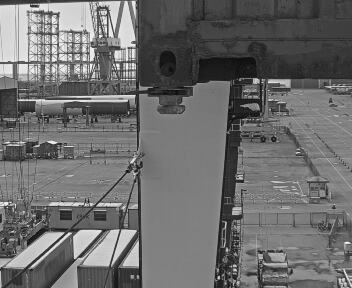twist_lock_1: (138, 80, 200, 127)
